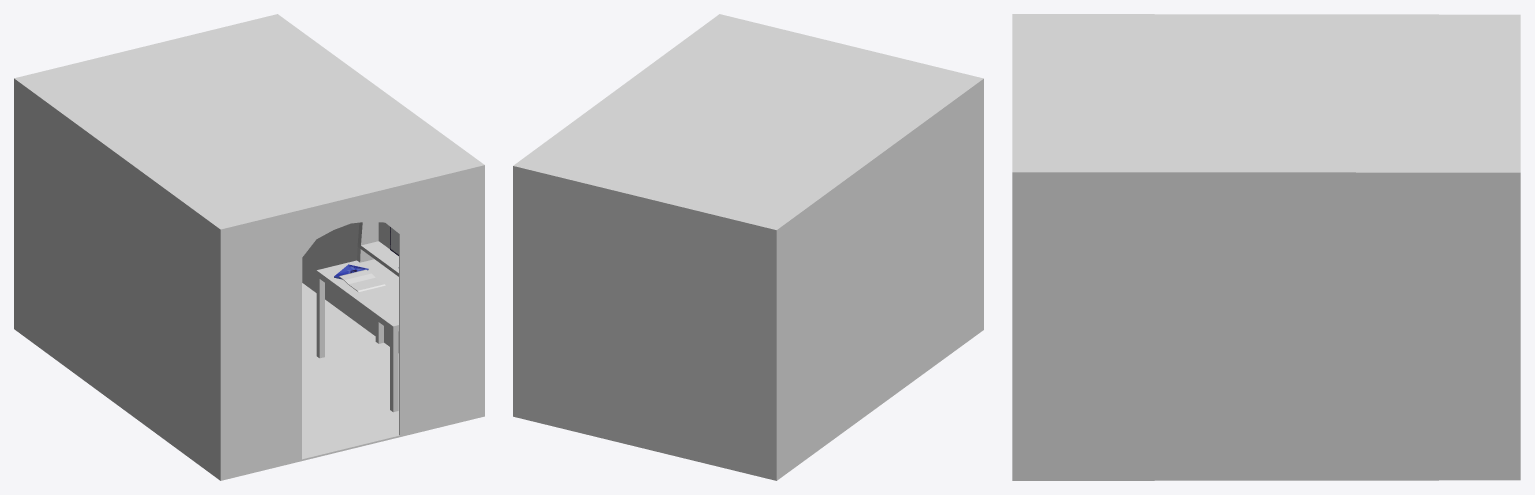
Rendered from SM_Hut_Blockout.fbx.
3 renders of one model, left to right at view 1: azimuth 30°, elevation 25°; view 2: azimuth 150°, elevation 25°; view 3: azimuth 270°, elevation 25°, orthographic. The views are drawn at different scales.
Visible parts, largest first — view 1: Kamer Muren, Kamer Grond, Bureau, Boek Atlas; view 2: Kamer Muren, Kamer Grond; view 3: Kamer Muren, Kamer Grond.
Boxes of the visible parts, <box> form: Kamer Muren: <box>14,14,484,478</box>; Kamer Grond: <box>14,283,484,480</box>; Bureau: <box>316,221,398,412</box>; Boek Atlas: <box>339,269,385,292</box>; Kamer Muren: <box>513,14,983,479</box>; Kamer Grond: <box>513,328,983,480</box>; Kamer Muren: <box>1012,14,1520,478</box>; Kamer Grond: <box>1012,478,1520,480</box>.
Bounding box in the file's own units: 246 × 223 × 333.
